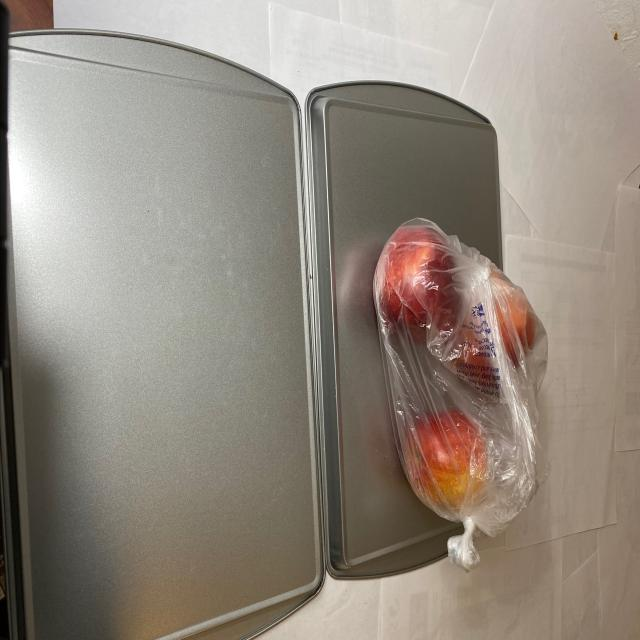apple: (369, 220, 537, 537)
